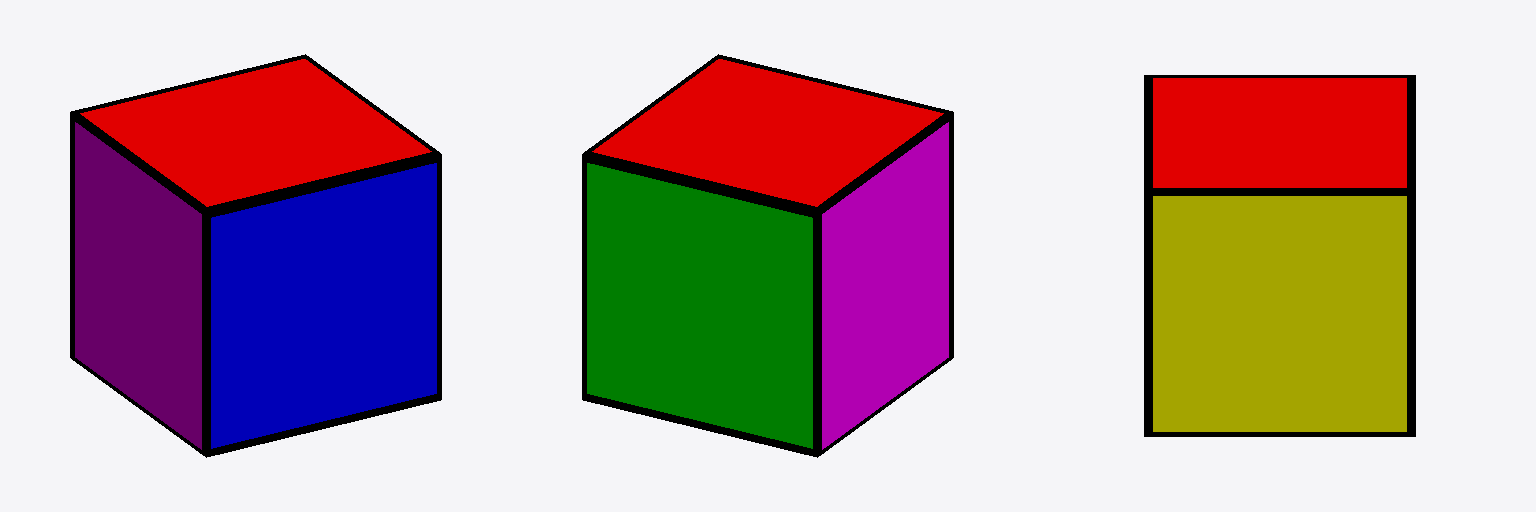
3 renders of one model, left to right at view 1: azimuth 30°, elevation 25°; view 2: azimuth 150°, elevation 25°; view 3: azimuth 270°, elevation 25°, orthographic.
Bounding box in the file's own units: 2 × 2 × 2.
Materials: 1 (1 with a texture image).